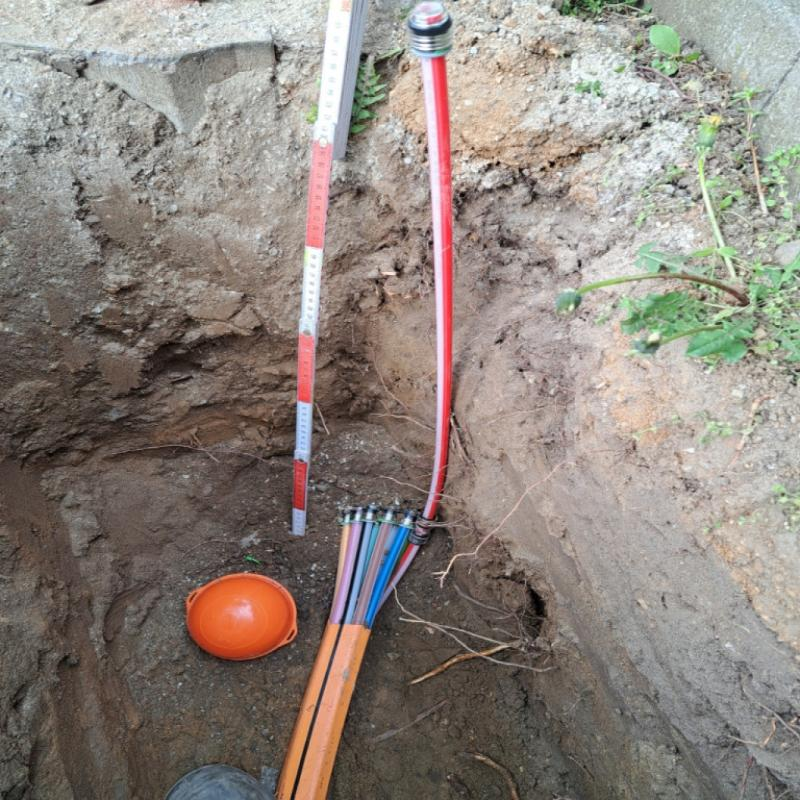Kugelmarker: (183, 572, 301, 662)
Orang-Speednetrohrchen: (277, 503, 434, 800)
